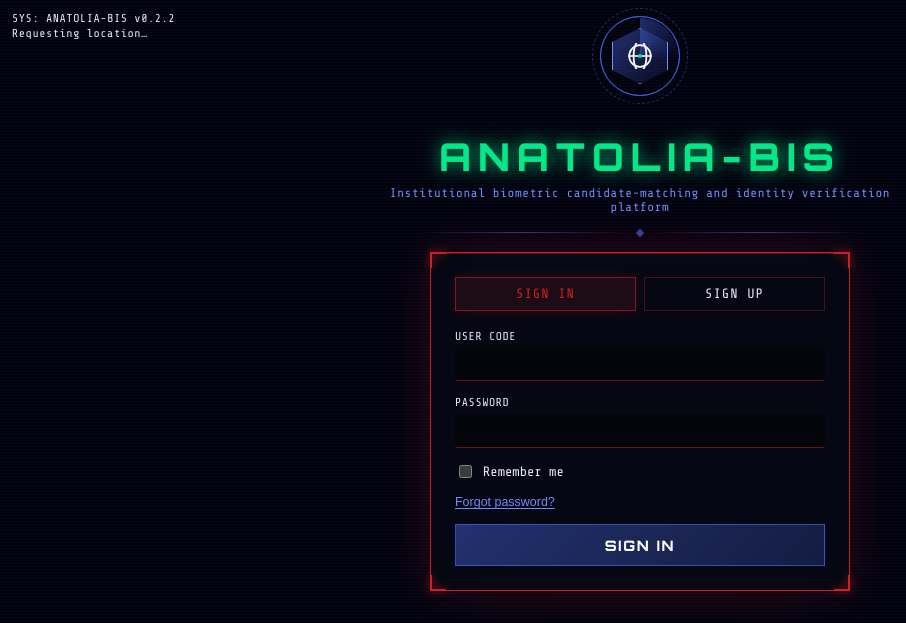
Test: LoginPage › shows the MFA challenge step when login requires an emailed code, and offers a resend
This screenshot has width=906, height=623.
Type "ADMIN1" into the field labelled "User code" at (640, 364), box [455,347,825,381]
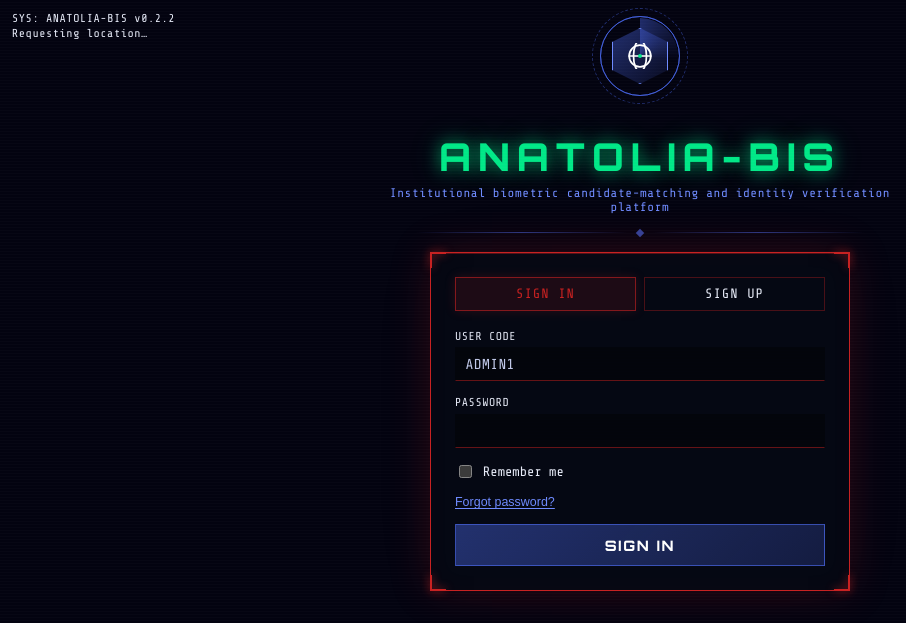
Type "AdminPass1!" into the password field labelled "Password" at (640, 431), box [455,414,825,448]
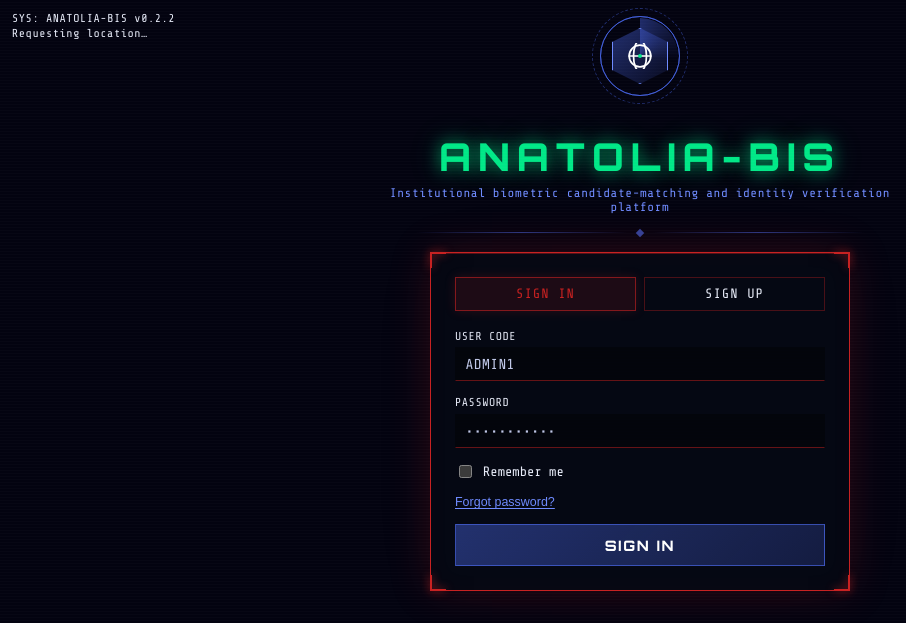
Submit the form with class "auth-panel", box [430,252,850,591]
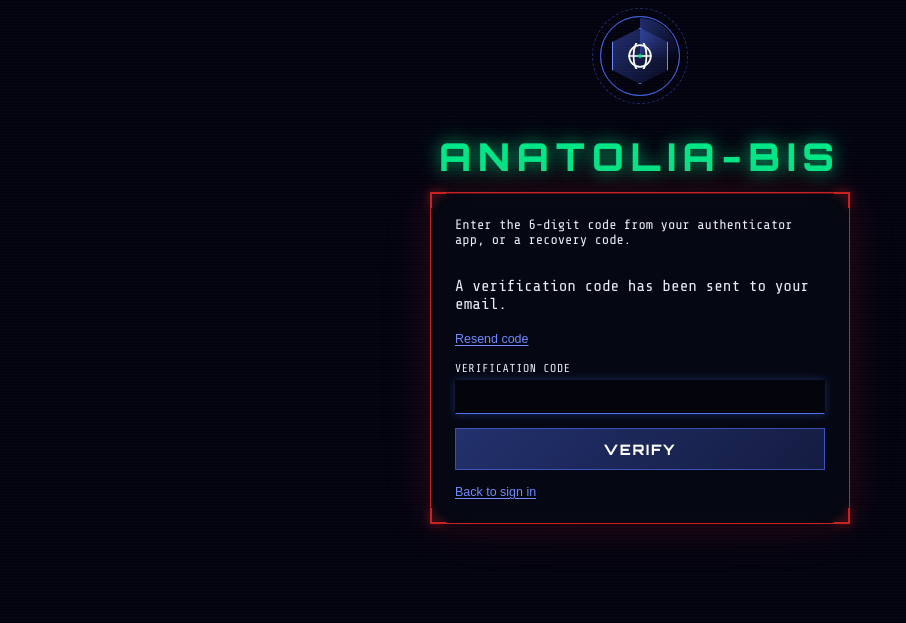
Result: the button "Resend code" is shown
Click the button "Resend code" at (492, 339), box [455,332,528,346]
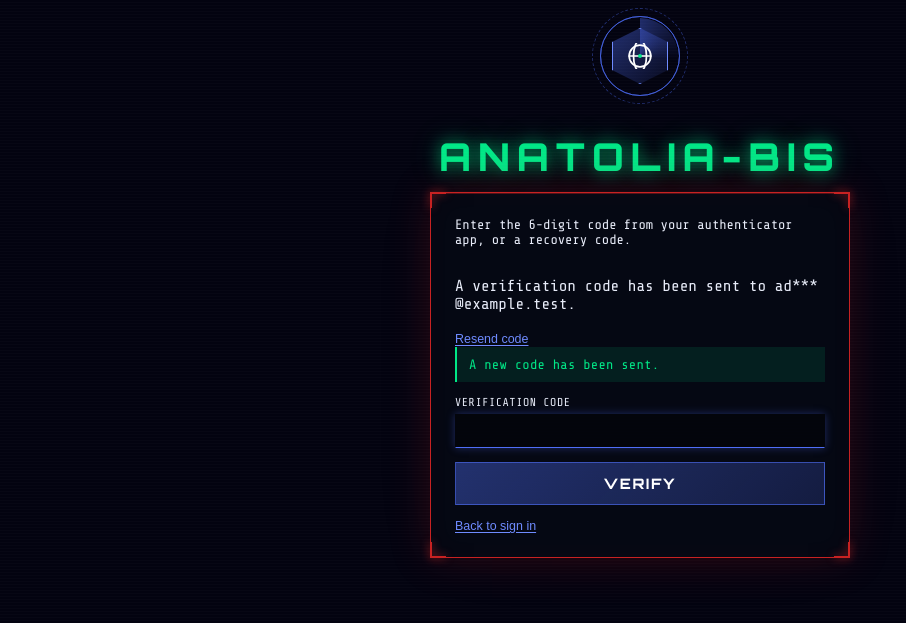
Result: the text "A new code has been sent." is shown at [455,347,825,382]
